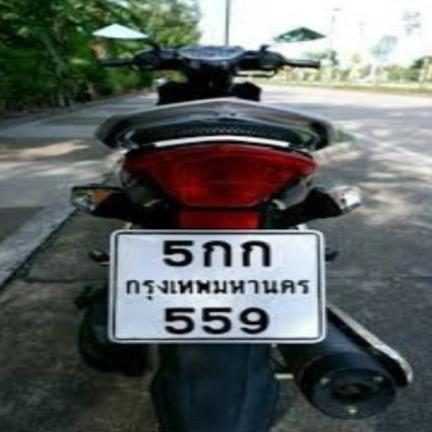5: (151, 236, 195, 268), (200, 305, 233, 337), (165, 305, 195, 335)
9: (237, 305, 271, 334)
A01: (238, 239, 274, 268), (199, 239, 234, 268)
BKK: (116, 276, 317, 303)
